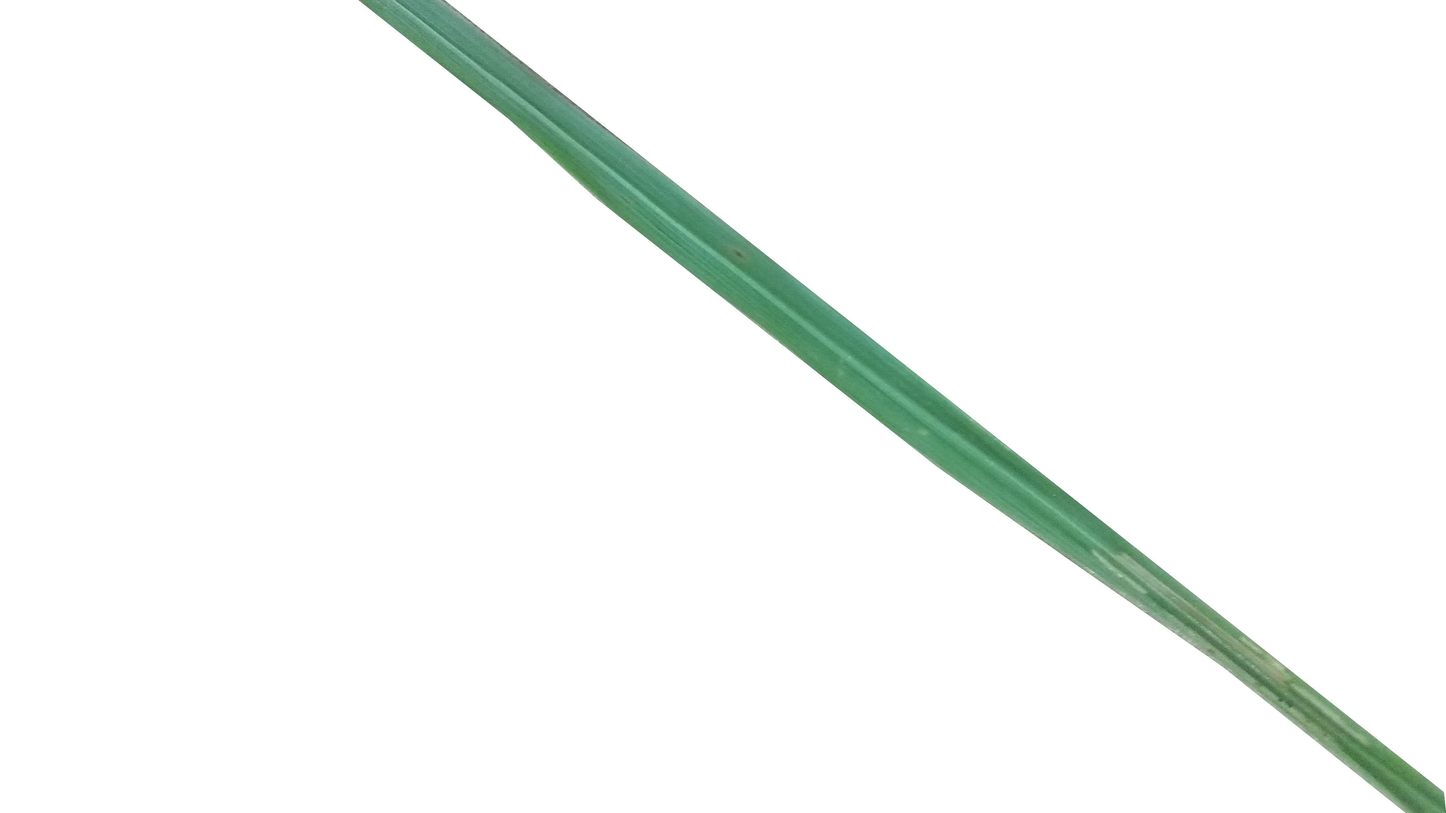Brown spot: (729, 245, 747, 269)
